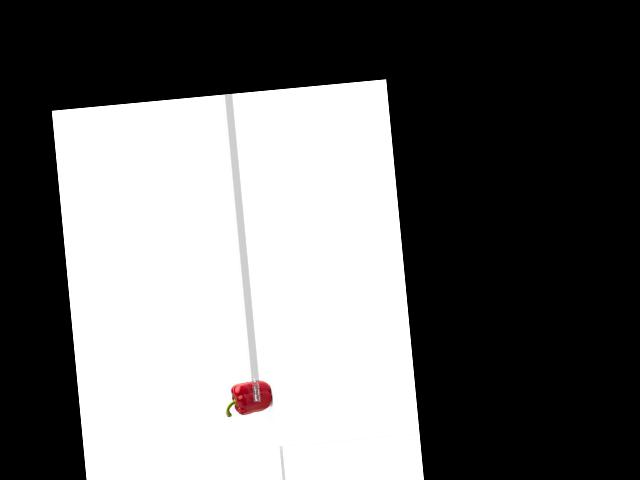bell_pepper: (220, 376, 272, 421)
